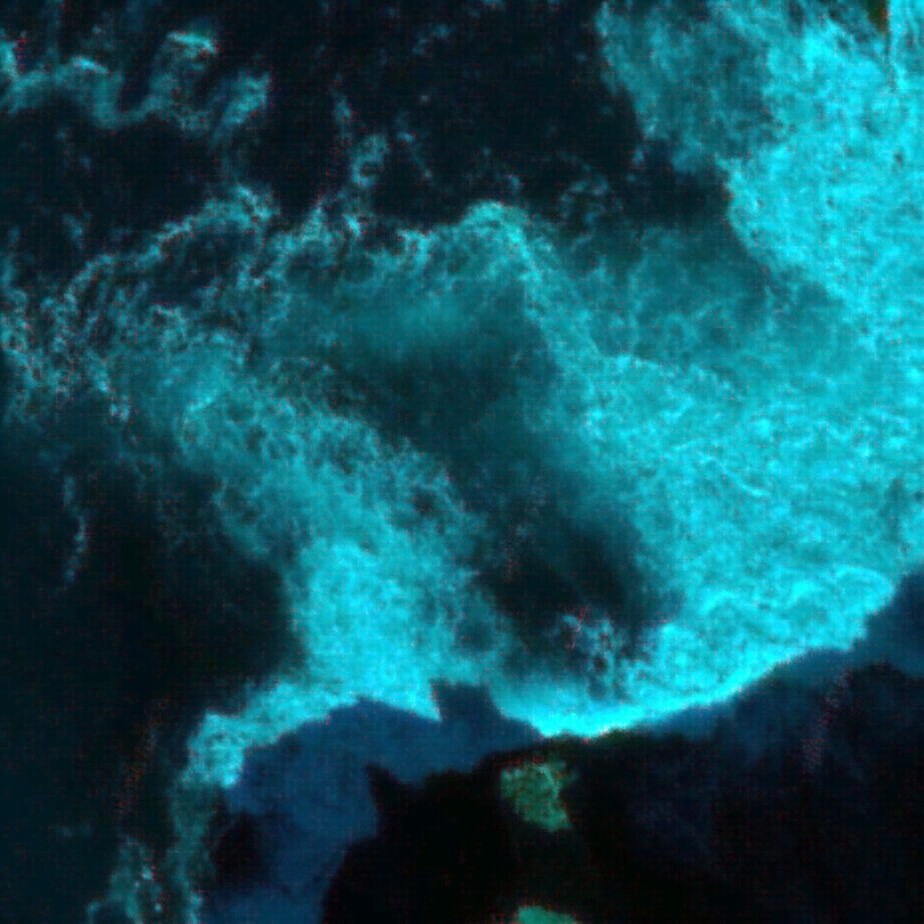rip_current: (202, 150, 664, 656)
